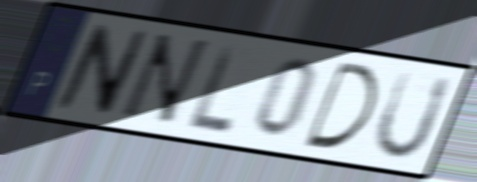0: (250, 56, 323, 141)
D: (301, 58, 383, 153)
L: (186, 41, 240, 136)
N: (50, 21, 152, 120), (112, 31, 214, 129)
U: (371, 67, 456, 162)
